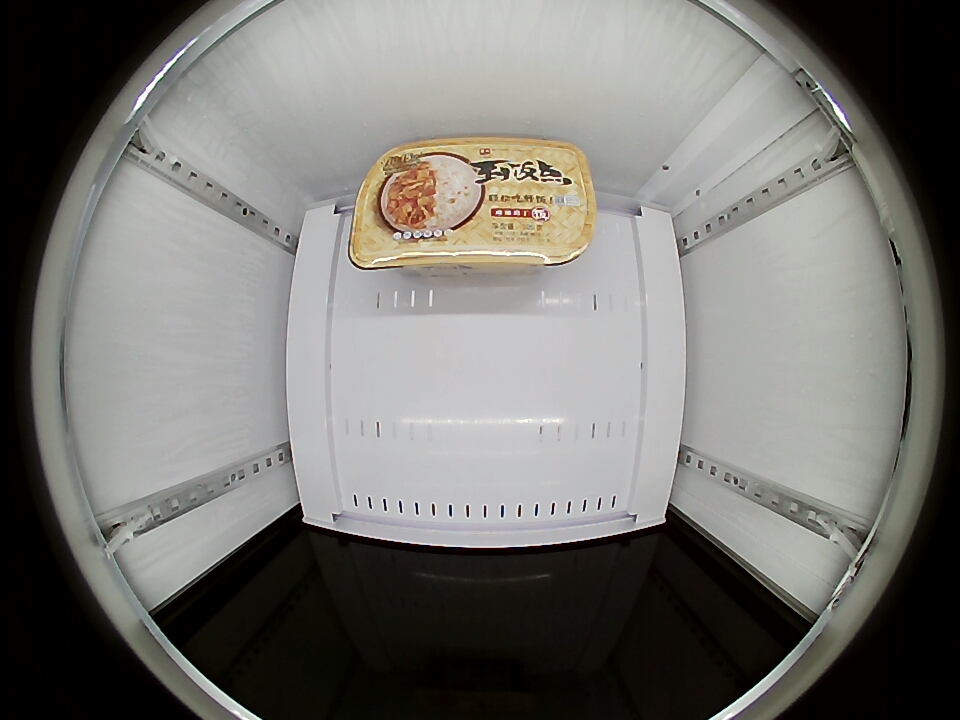daofandian4: (347, 136, 598, 273)
